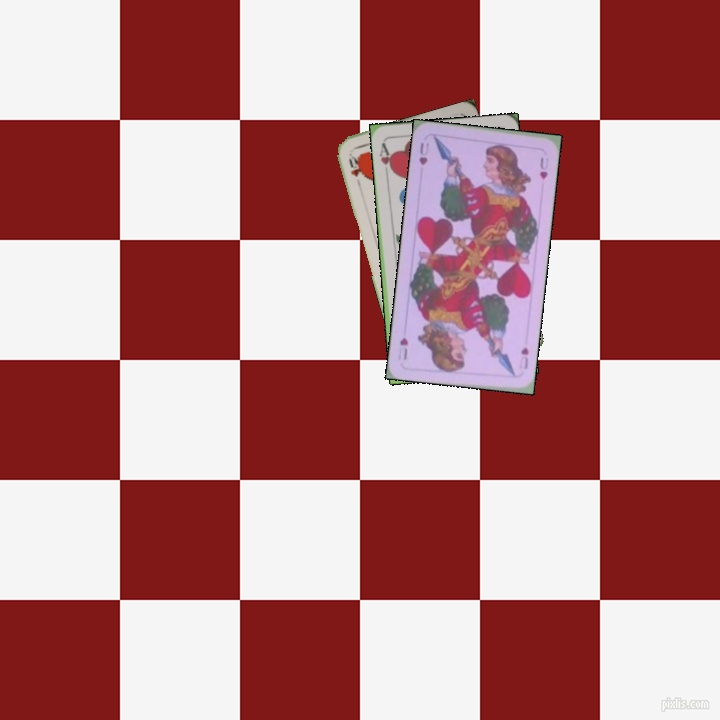HA: (375, 139, 396, 175)
HO: (344, 149, 365, 189)
HU: (415, 138, 432, 168), (515, 343, 531, 372)
